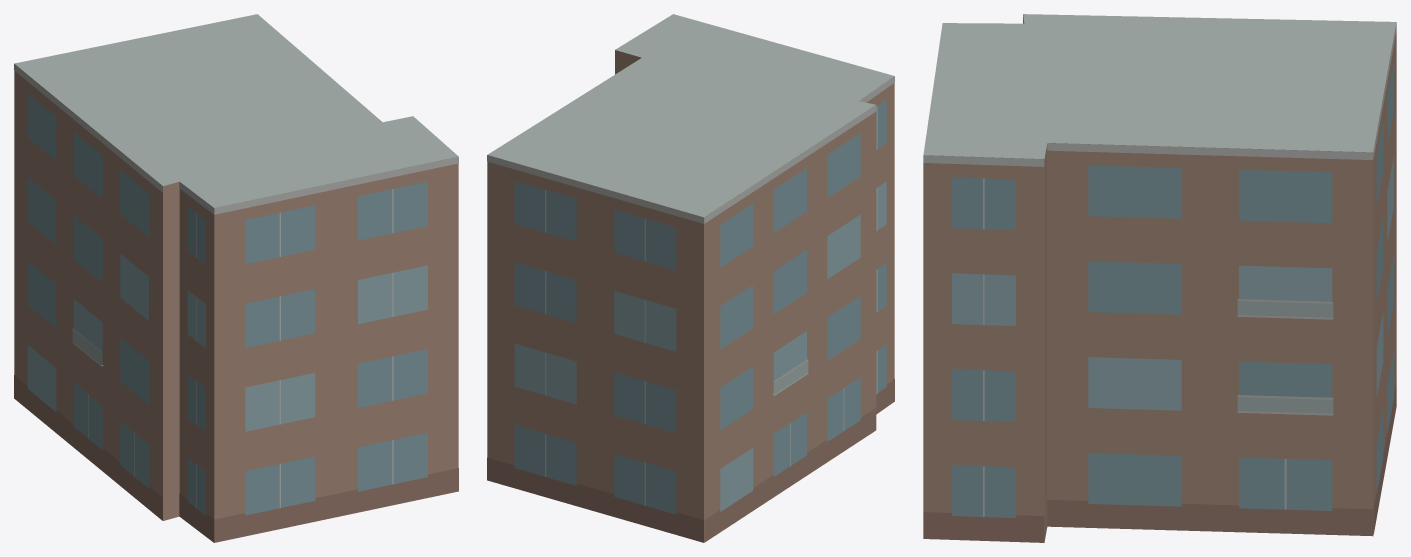
File: survey-upis-32706821.glb
The picture shows the model from 3 angles, left to right: view 1: azimuth 30°, elevation 25°; view 2: azimuth 150°, elevation 25°; view 3: azimuth 270°, elevation 25°; orthographic projection. The views are drawn at different scales.
Parts seen in each view (by area): view 1: survey-upis-32706821.tmp; view 2: survey-upis-32706821.tmp; view 3: survey-upis-32706821.tmp.
Part boxes in pixels (box(x1,y1,x2,y2)): survey-upis-32706821.tmp: box(14, 14, 458, 542); survey-upis-32706821.tmp: box(487, 14, 894, 542); survey-upis-32706821.tmp: box(923, 14, 1396, 542).
Size of the model in its own units: 9.72 by 11.97 by 13.39.
